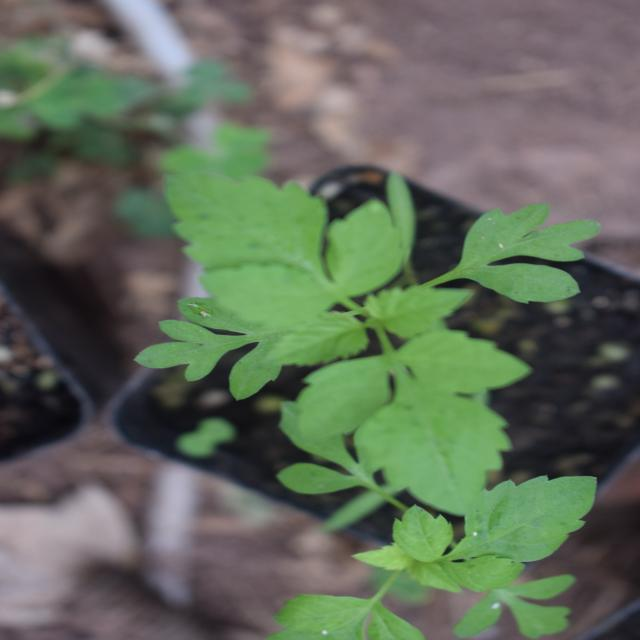Bidens pilosa: (158, 35, 514, 506), (523, 66, 640, 398)
